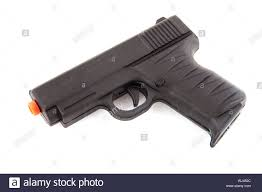Arma Falsa: (26, 15, 258, 148)
